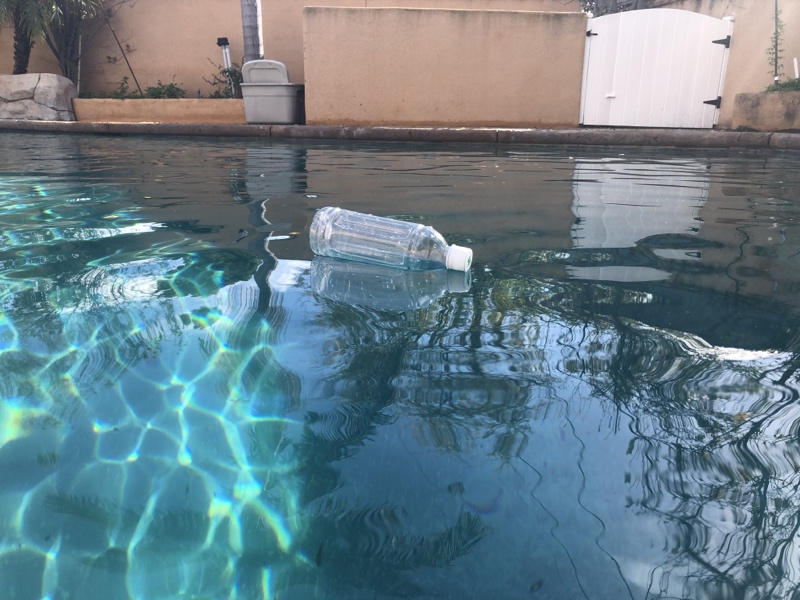Plastic Bottle: (306, 206, 475, 280)
